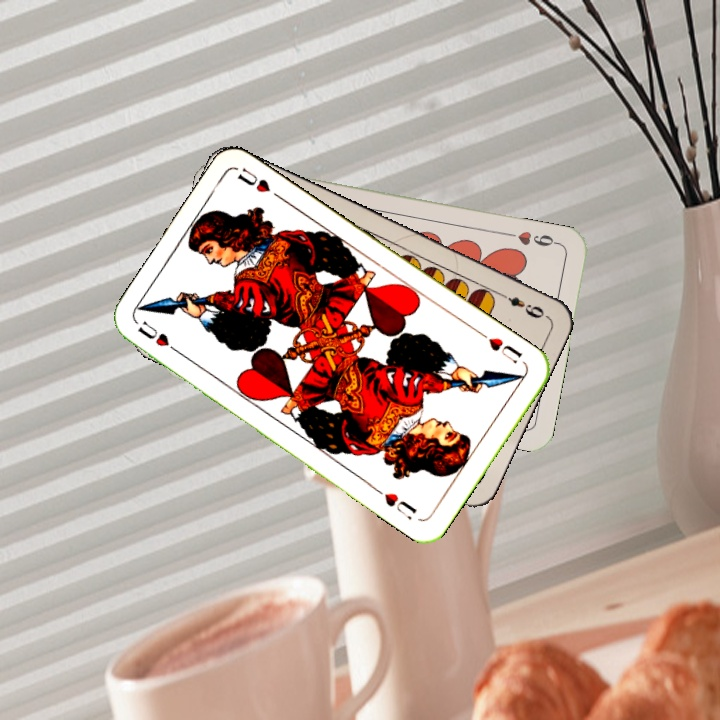E9: (494, 287, 549, 321)
H9: (513, 227, 563, 249)
HU: (134, 316, 184, 358), (484, 333, 525, 366)
